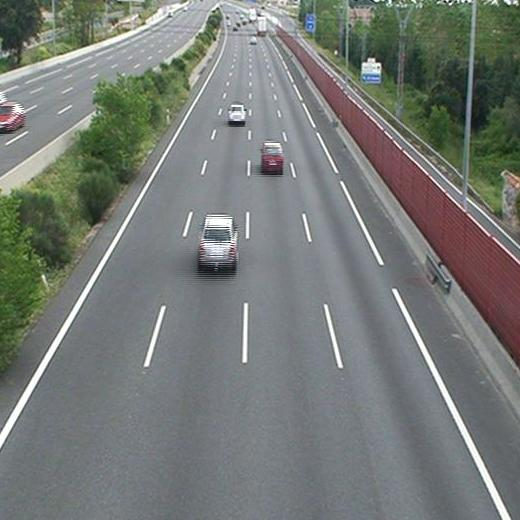car: (197, 214, 236, 263), (261, 142, 283, 170), (229, 105, 246, 123)
